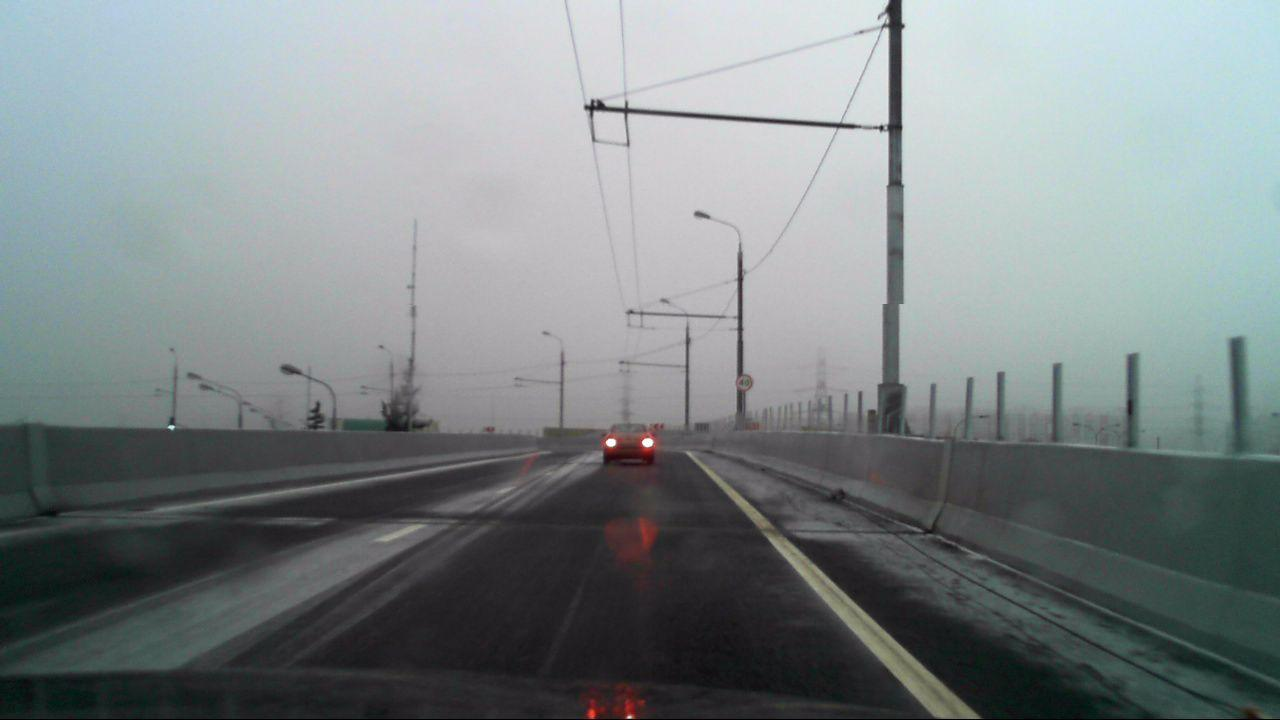road_sign: (735, 374, 753, 392)
